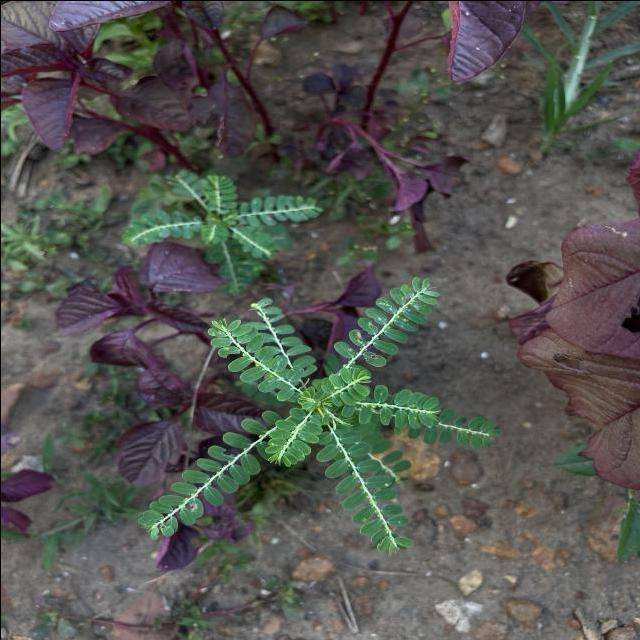Phyllanthus niruri: (134, 408, 288, 540), (316, 422, 416, 556), (330, 275, 440, 368), (205, 315, 308, 402), (349, 382, 445, 428), (264, 406, 326, 466), (320, 366, 372, 406)
